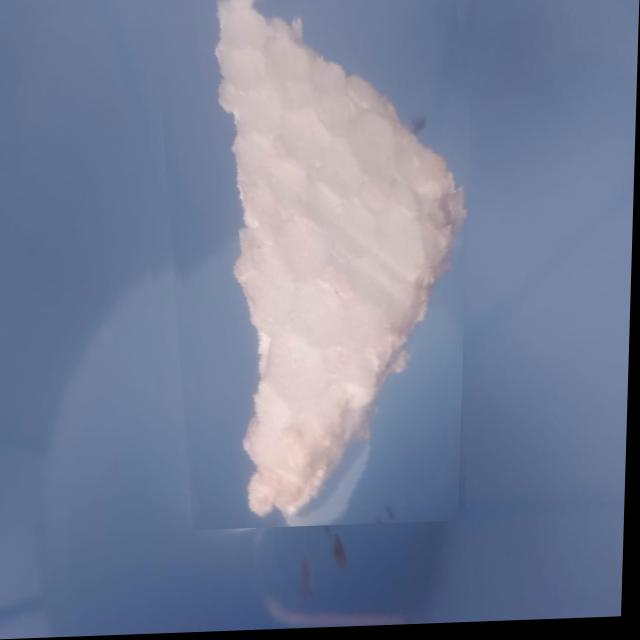thermocoal: (140, 0, 474, 534)
